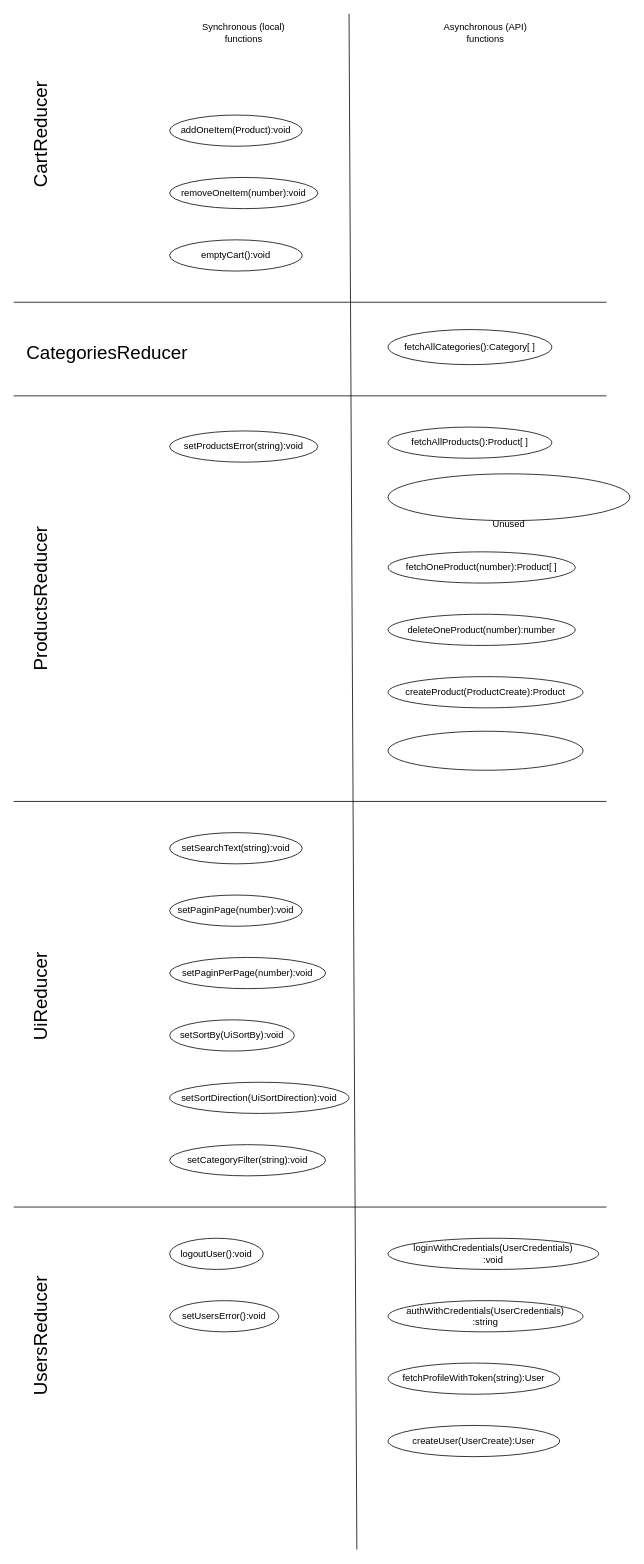
Image size: 644x1564. Some labels were removed from this diagram. Here are the shapes that lost their labels. From the top down, the centre of each, then its label:
At [508,497]: "fetchProductsWithPagination(PaginationOptions) :Product[ ]".
At [485,750]: "updateProduct(ProductUpdate):Product".
